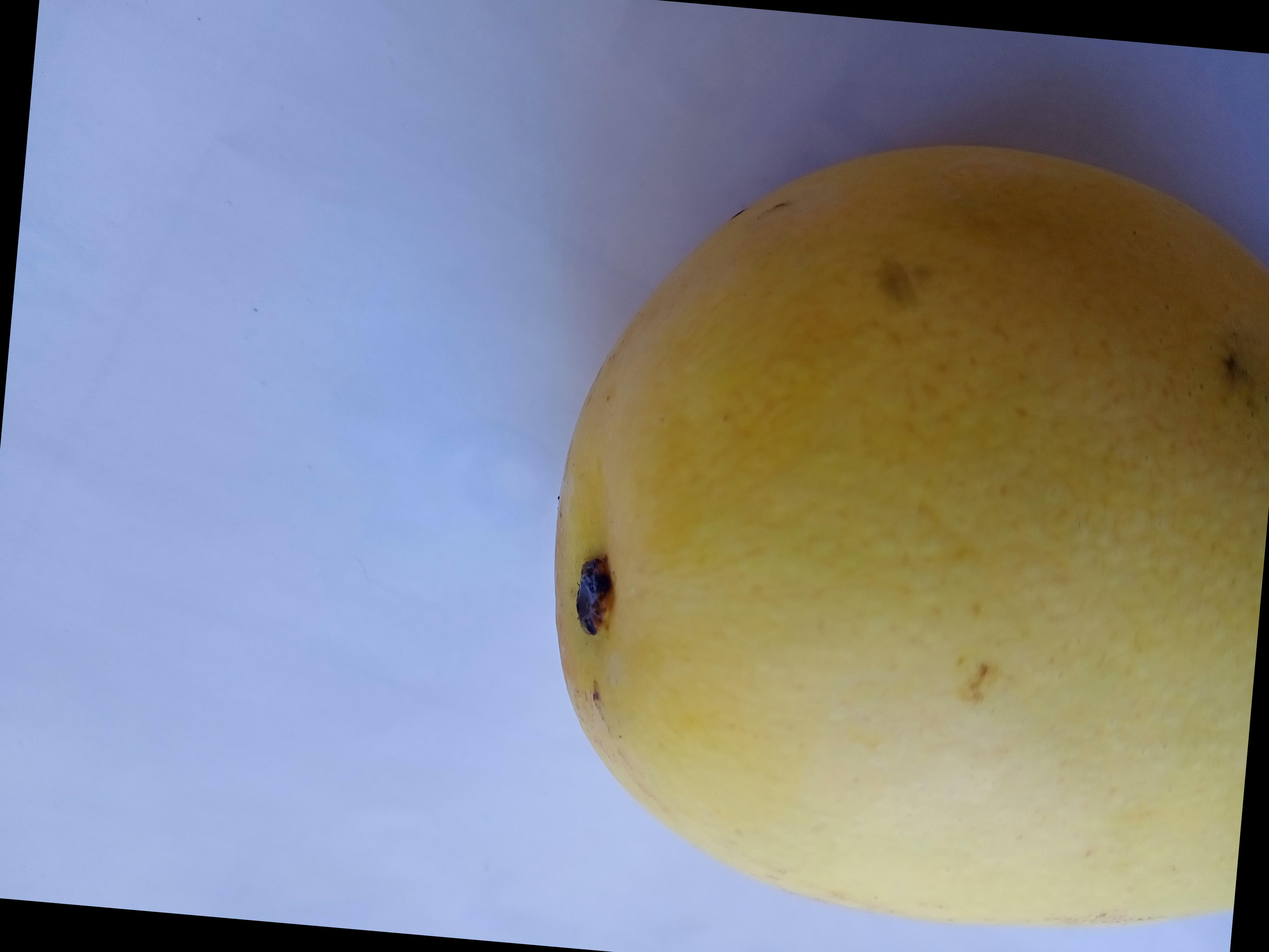Mango Ripe: (516, 0, 1269, 904)
